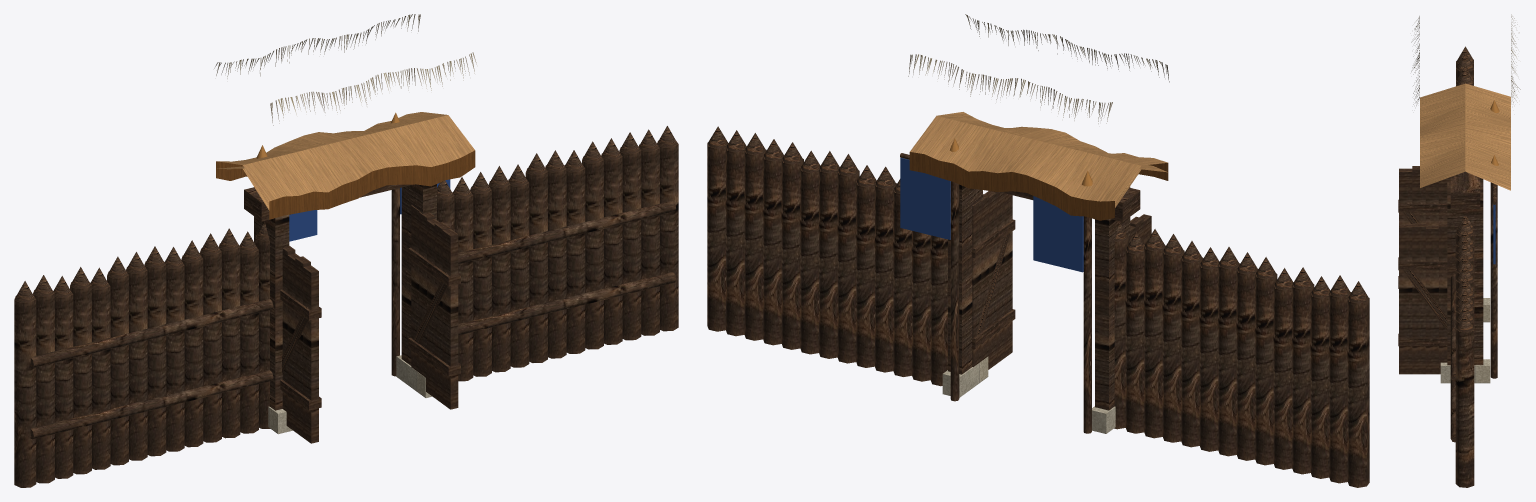
Rendered from woodgate@2.glb.
3 renders of one model, left to right at view 1: azimuth 30°, elevation 25°; view 2: azimuth 150°, elevation 25°; view 3: azimuth 270°, elevation 25°, orthographic. The views are drawn at different scales.
Visible parts, largest first — view 1: part_0, part_2, part_3, part_6, part_1, part_4; view 2: part_0, part_2, part_4, part_3, part_6, part_1; view 3: part_0, part_2, part_1, part_6, part_4.
Boxes of the visible parts, x1,y1,x2,y2 form: part_0: (14,126,678,487); part_2: (217,112,474,210); part_3: (216,150,475,219); part_6: (214,14,476,125); part_1: (268,355,431,434); part_4: (289,179,450,241); part_0: (707,126,1369,487); part_2: (910,112,1167,207); part_4: (900,158,1083,272); part_3: (909,152,1168,220); part_6: (908,14,1169,123); part_1: (942,356,1115,433); part_0: (1398,46,1497,487); part_2: (1420,83,1510,190); part_1: (1440,298,1490,383); part_6: (1411,14,1520,105); part_4: (1493,204,1495,264).
Size of the model in its own units: 6.12 by 3.09 by 1.17.
Materials: 7 (4 with a texture image).
